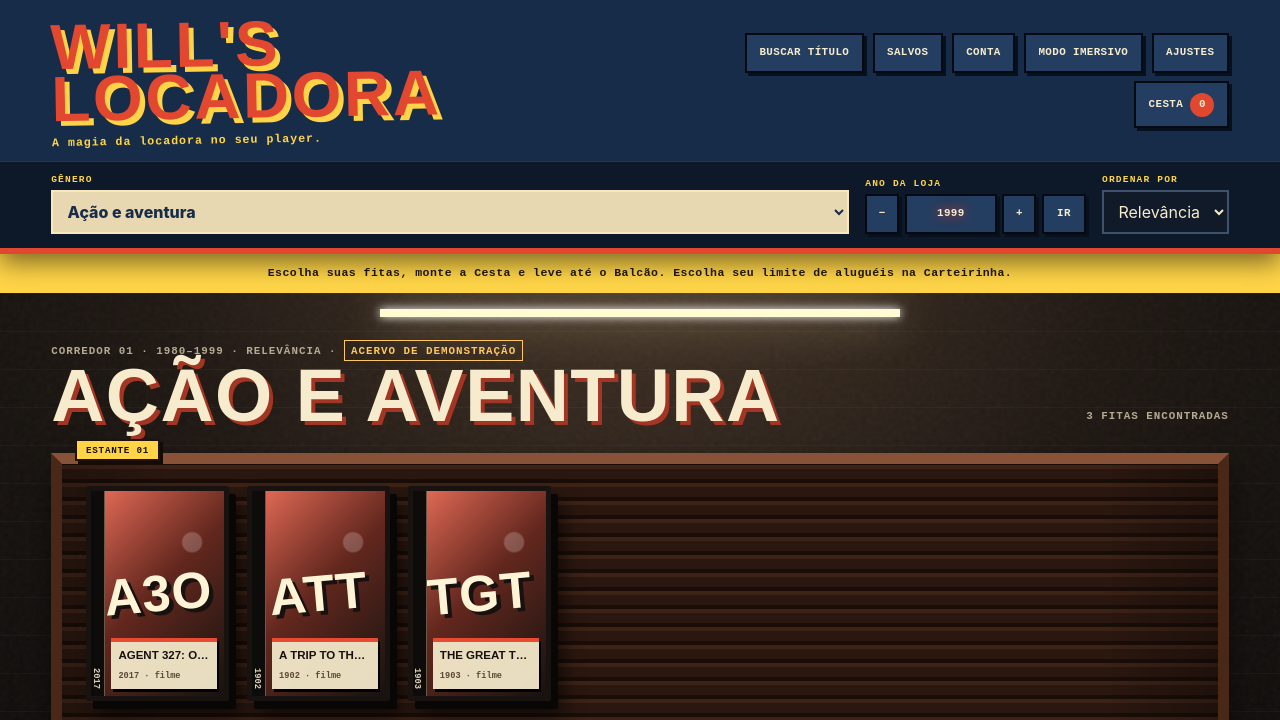
Test: accessible Locadora shelf › keeps media configuration in secondary settings and desktop-only
Click the button "Ajustes" at (1190,53), box left=1152, top=33, right=1229, bottom=73
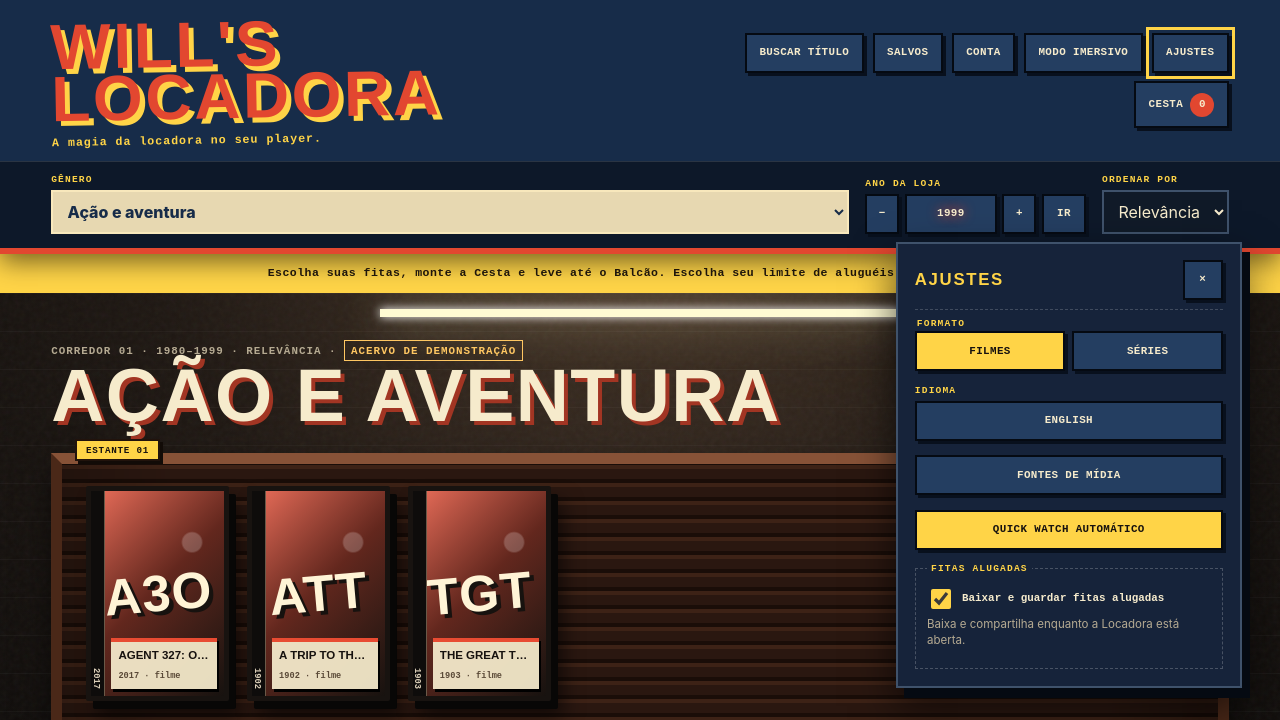
Click the button "Fontes de mídia" at (1069,475), box left=915, top=455, right=1223, bottom=495
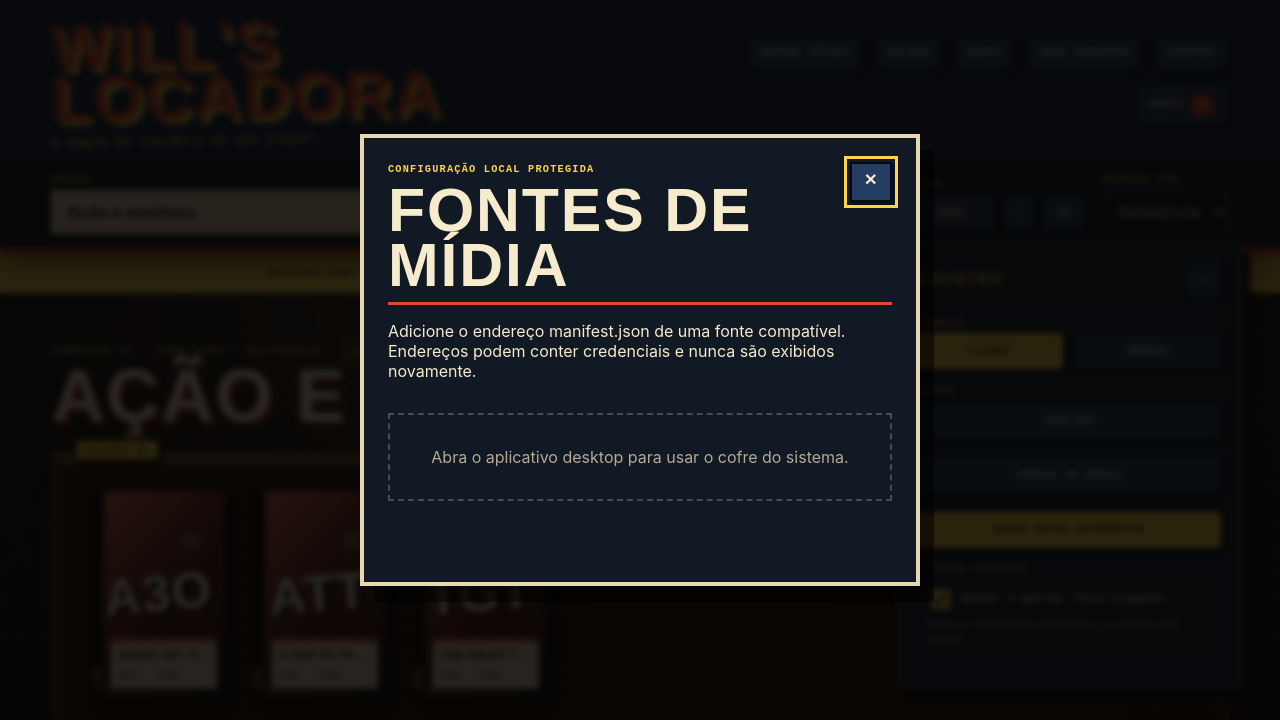
Expected: the text "Abra o aplicativo desktop para usar o cofre do sistema." is shown, left=388, top=413, right=892, bottom=501
